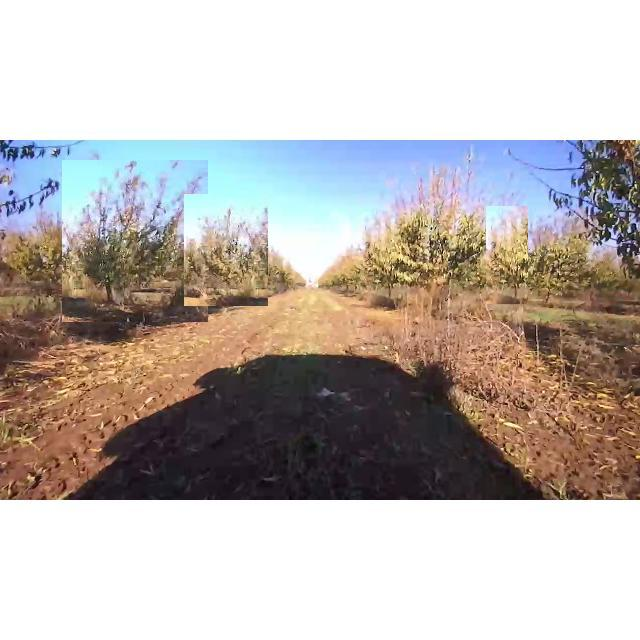direk: (360, 168, 528, 320), (62, 160, 208, 322), (184, 194, 268, 306), (516, 220, 596, 312), (360, 206, 402, 304)
